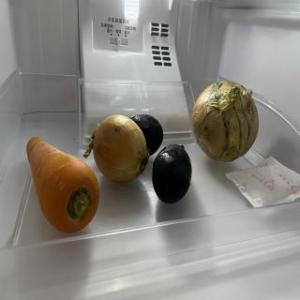carrot: (25, 136, 103, 238)
eggplant: (152, 141, 194, 207), (129, 116, 165, 156)
onion: (192, 80, 260, 162), (83, 115, 149, 190)
